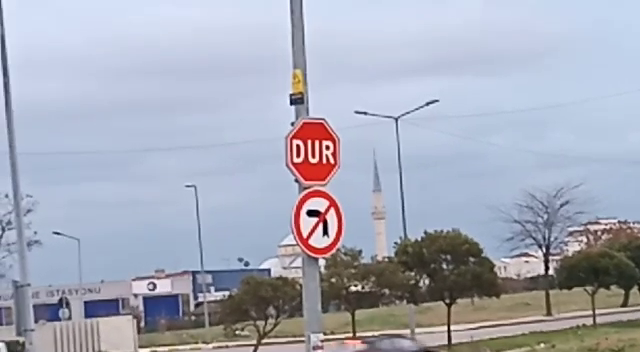no_left: (289, 187, 346, 262)
stop: (282, 113, 344, 188)
